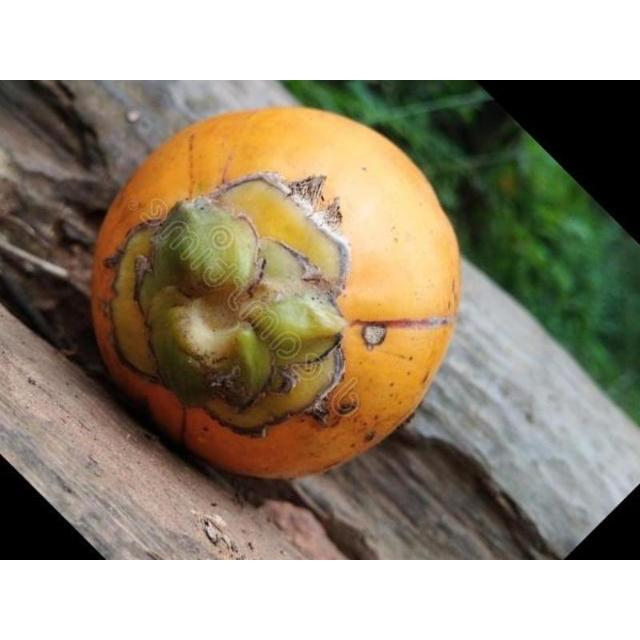good: (86, 107, 462, 484)
